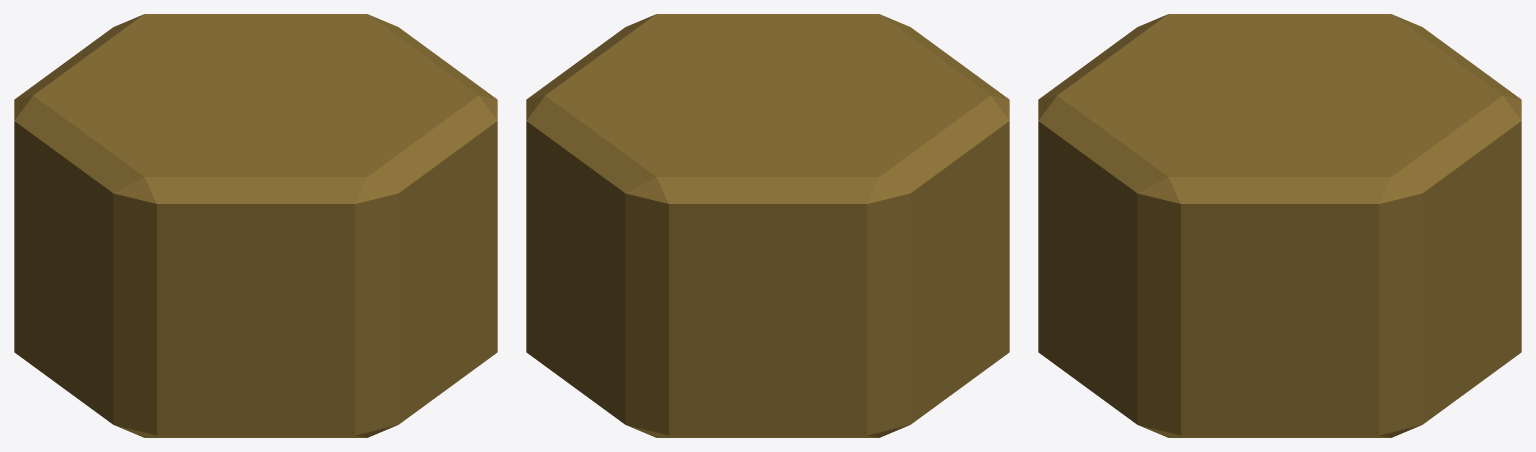
Rendered from wax.fbx.
3 renders of one model, left to right at view 1: azimuth 30°, elevation 25°; view 2: azimuth 150°, elevation 25°; view 3: azimuth 270°, elevation 25°, orthographic.
Visible parts, largest first — view 1: vax; view 2: vax; view 3: vax.
Part boxes in pixels (bbox=[...]): vax: bbox=[14, 14, 497, 437]; vax: bbox=[526, 14, 1009, 437]; vax: bbox=[1038, 14, 1521, 437].
Size of the model in its own units: 15.97 by 10.36 by 17.4.
